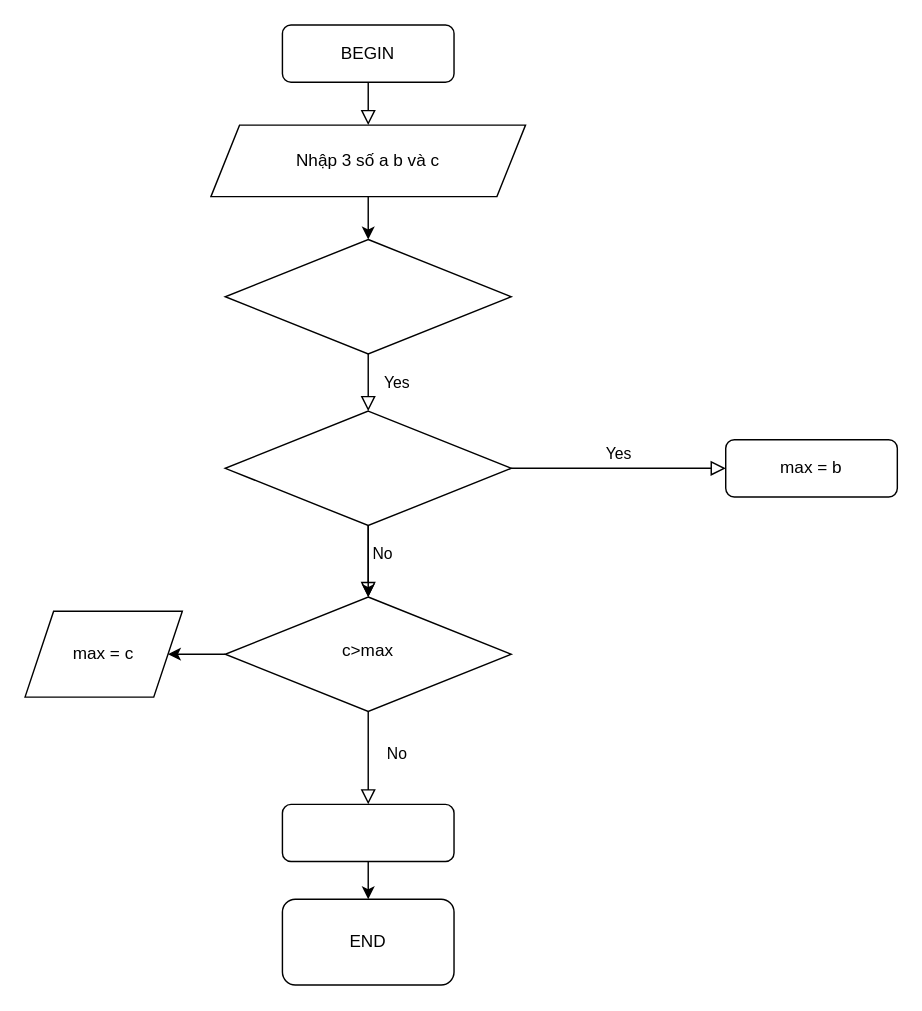
Some shapes in this 922 by 1011 pixel diagram are drawn without their labels. Each missing label, with the centre of its shape:
b> max: the point at 367,468
Hiển thị max: the point at 367,832
Max = a: the point at 367,296
